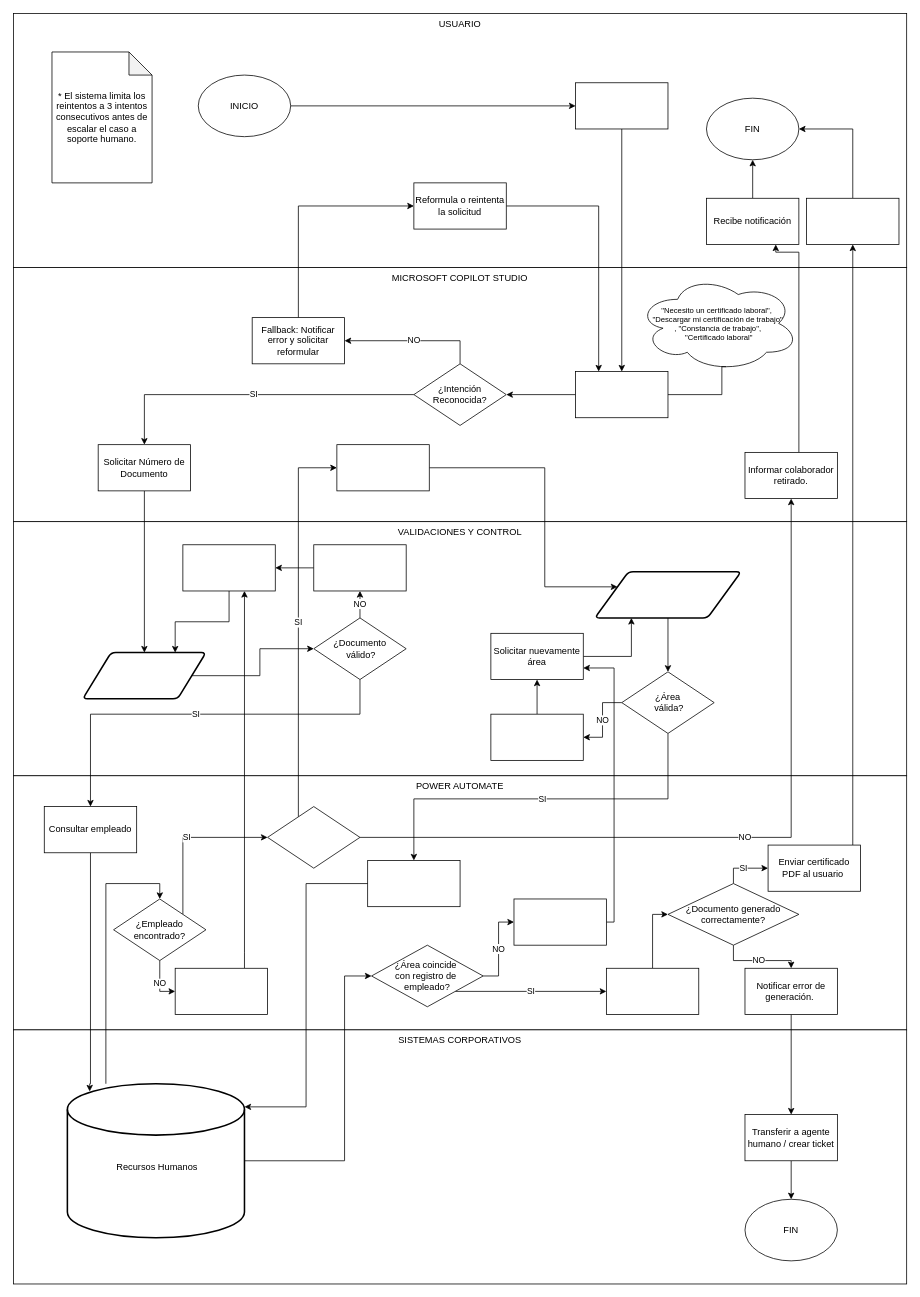
Some shapes in this 920 by 1297 pixel diagram are drawn without their labels. Here are the shapes that lost their labels. From the top down, the centre of each, then its label:
[621,105]: Solicita Certificado Laboral
[852,221]: Recibe certificado laboral, descarga pdf
[621,394]: Reconocer Intención del Usuario
[382,467]: Solicitar Área o Dependencia
[228,567]: Solicitar nuevamente documento
[359,567]: Mostrar error de validación
[668,594]: Usuario ingresar Área o Dependencia
[144,675]: Usuario ingresa documento
[536,736]: Notificar área no encontrada
[313,837]: ¿Empleado Activo?
[413,883]: Consultar información del empleado
[559,921]: Área no coincide con la registrada
[221,991]: Documento no encontrado
[652,991]: Generar certificado laboral
